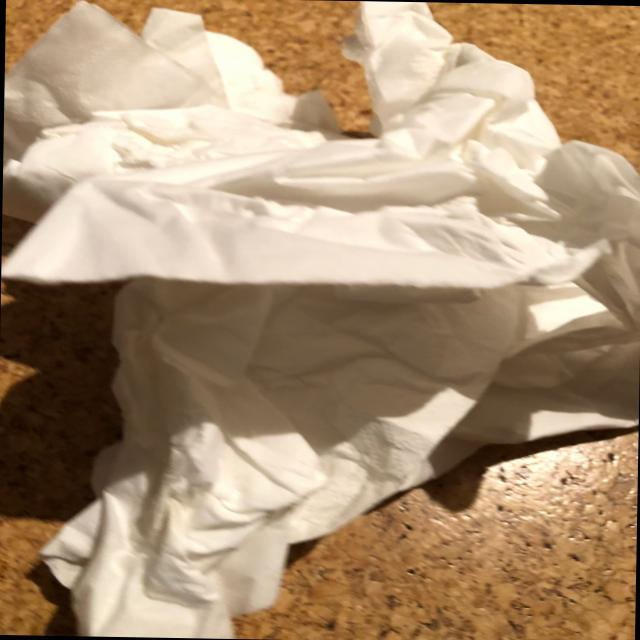organic waste: (0, 170, 640, 640), (0, 0, 640, 297)
